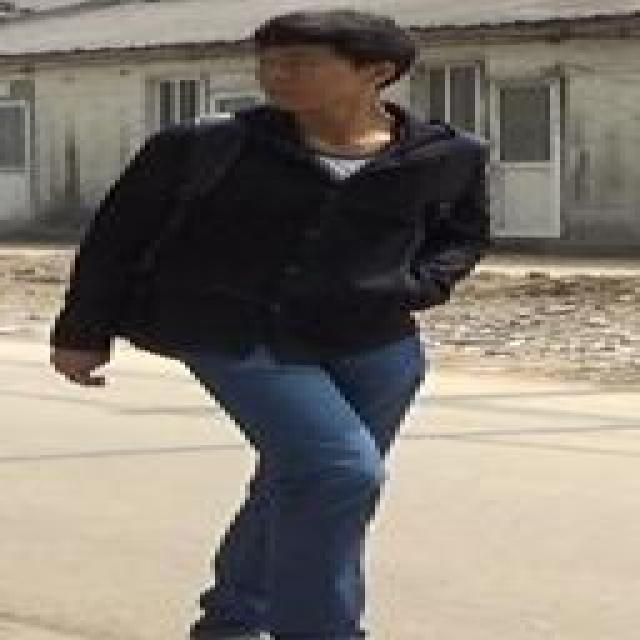adult: (35, 7, 510, 640)
